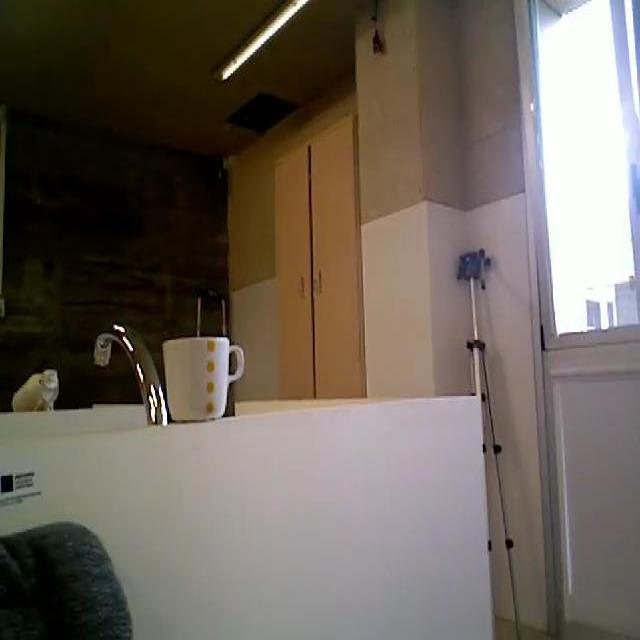cup: (160, 329, 248, 430)
